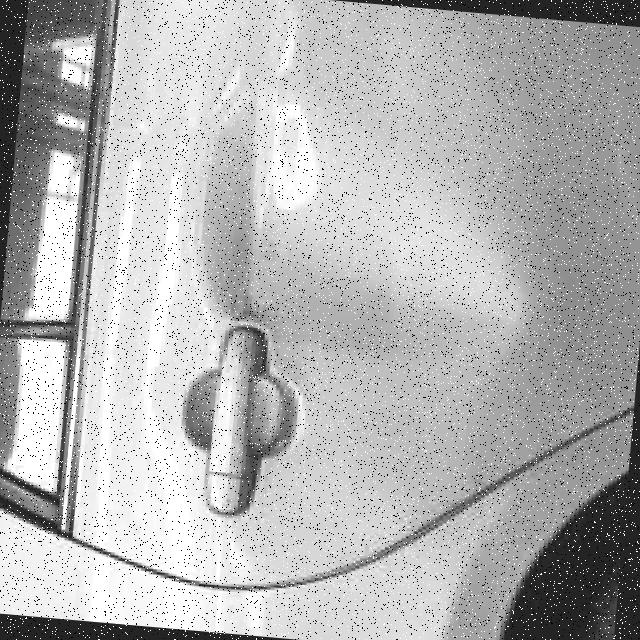Dent: (202, 92, 518, 332)
